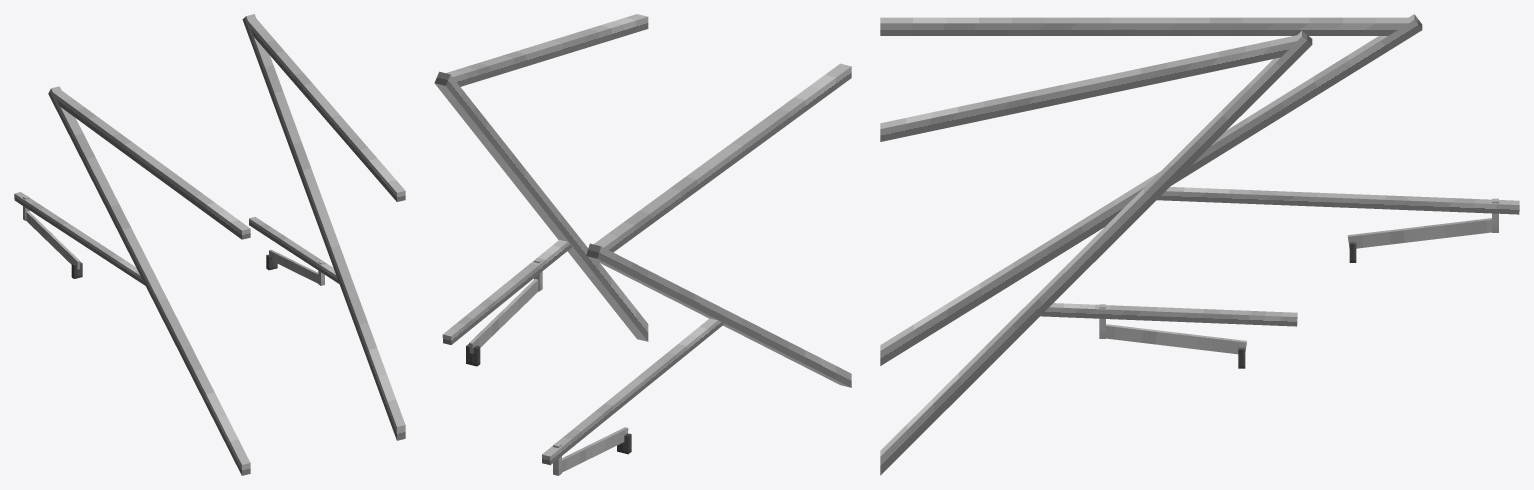
The model's file is cantilever_center_4px.obj.
3 renders of one model, left to right at view 1: azimuth 30°, elevation 25°; view 2: azimuth 150°, elevation 25°; view 3: azimuth 270°, elevation 25°, orthographic. The views are drawn at different scales.
Parts seen in each view (by area): view 1: 0022414e-f7a8-42fe-8891-7bc01e785c7d, 5cbf2c08-434d-4fd9-a908-ae1dc5ee9fb0, 0cd376b9-3890-414e-9cf6-655353ce1c6f, dab91d42-2165-4a5e-ad66-b50412cd7126, b3932715-c702-4dba-9a0d-4d0d5e6007c1, dedcc0d1-a6cf-4d5e-acb4-dab9121a6554, 3fe35a51-afa0-44f3-aa1b-a6441553ff4e, 70190b76-964e-436c-a8ec-f381adb45f8d; view 2: 0022414e-f7a8-42fe-8891-7bc01e785c7d, 0cd376b9-3890-414e-9cf6-655353ce1c6f, 5cbf2c08-434d-4fd9-a908-ae1dc5ee9fb0, dab91d42-2165-4a5e-ad66-b50412cd7126, b3932715-c702-4dba-9a0d-4d0d5e6007c1, dedcc0d1-a6cf-4d5e-acb4-dab9121a6554, 70190b76-964e-436c-a8ec-f381adb45f8d, 3fe35a51-afa0-44f3-aa1b-a6441553ff4e; view 3: 0022414e-f7a8-42fe-8891-7bc01e785c7d, 5cbf2c08-434d-4fd9-a908-ae1dc5ee9fb0, 0cd376b9-3890-414e-9cf6-655353ce1c6f, dab91d42-2165-4a5e-ad66-b50412cd7126, b3932715-c702-4dba-9a0d-4d0d5e6007c1, dedcc0d1-a6cf-4d5e-acb4-dab9121a6554, 3fe35a51-afa0-44f3-aa1b-a6441553ff4e, 70190b76-964e-436c-a8ec-f381adb45f8d.
Part boxes in pixels (bbox=[...]): 0022414e-f7a8-42fe-8891-7bc01e785c7d: bbox=[242, 14, 405, 440]; 5cbf2c08-434d-4fd9-a908-ae1dc5ee9fb0: bbox=[48, 86, 250, 475]; 0cd376b9-3890-414e-9cf6-655353ce1c6f: bbox=[53, 90, 250, 239]; dab91d42-2165-4a5e-ad66-b50412cd7126: bbox=[248, 18, 405, 201]; b3932715-c702-4dba-9a0d-4d0d5e6007c1: bbox=[14, 192, 145, 285]; dedcc0d1-a6cf-4d5e-acb4-dab9121a6554: bbox=[249, 217, 339, 283]; 3fe35a51-afa0-44f3-aa1b-a6441553ff4e: bbox=[26, 211, 80, 269]; 70190b76-964e-436c-a8ec-f381adb45f8d: bbox=[269, 249, 318, 283]; 0022414e-f7a8-42fe-8891-7bc01e785c7d: bbox=[434, 71, 648, 341]; 0cd376b9-3890-414e-9cf6-655353ce1c6f: bbox=[593, 63, 851, 252]; 5cbf2c08-434d-4fd9-a908-ae1dc5ee9fb0: bbox=[586, 243, 851, 387]; dab91d42-2165-4a5e-ad66-b50412cd7126: bbox=[446, 14, 648, 86]; b3932715-c702-4dba-9a0d-4d0d5e6007c1: bbox=[542, 318, 724, 465]; dedcc0d1-a6cf-4d5e-acb4-dab9121a6554: bbox=[442, 240, 571, 344]; 70190b76-964e-436c-a8ec-f381adb45f8d: bbox=[469, 279, 538, 353]; 3fe35a51-afa0-44f3-aa1b-a6441553ff4e: bbox=[562, 427, 628, 472]; 0022414e-f7a8-42fe-8891-7bc01e785c7d: bbox=[880, 30, 1312, 475]; 5cbf2c08-434d-4fd9-a908-ae1dc5ee9fb0: bbox=[880, 14, 1422, 365]; 0cd376b9-3890-414e-9cf6-655353ce1c6f: bbox=[880, 17, 1408, 35]; dab91d42-2165-4a5e-ad66-b50412cd7126: bbox=[880, 35, 1297, 141]; b3932715-c702-4dba-9a0d-4d0d5e6007c1: bbox=[1157, 187, 1519, 214]; dedcc0d1-a6cf-4d5e-acb4-dab9121a6554: bbox=[1040, 303, 1297, 326]; 3fe35a51-afa0-44f3-aa1b-a6441553ff4e: bbox=[1347, 218, 1491, 248]; 70190b76-964e-436c-a8ec-f381adb45f8d: bbox=[1106, 324, 1246, 354].
Size of the model in its own units: 1.19 by 2.18 by 2.87.
